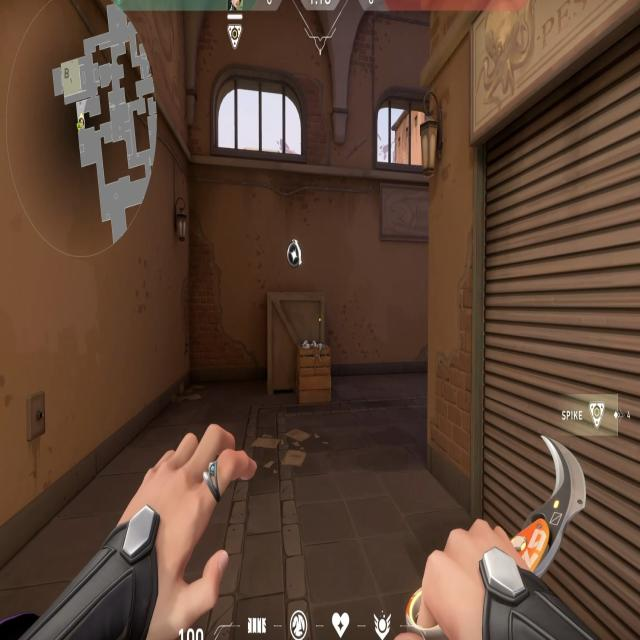B_Main_Wallbang: (256, 230, 342, 408)
Throwables: (210, 69, 312, 167), (370, 80, 429, 174)
